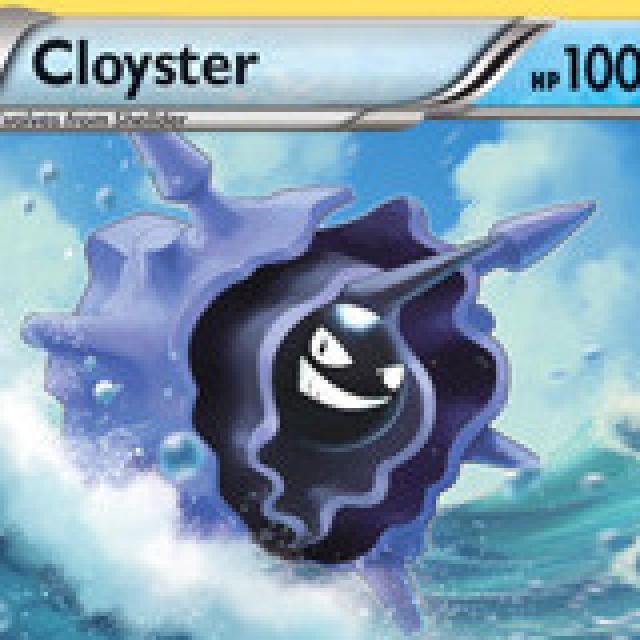Cloyster: (68, 197, 534, 556)
